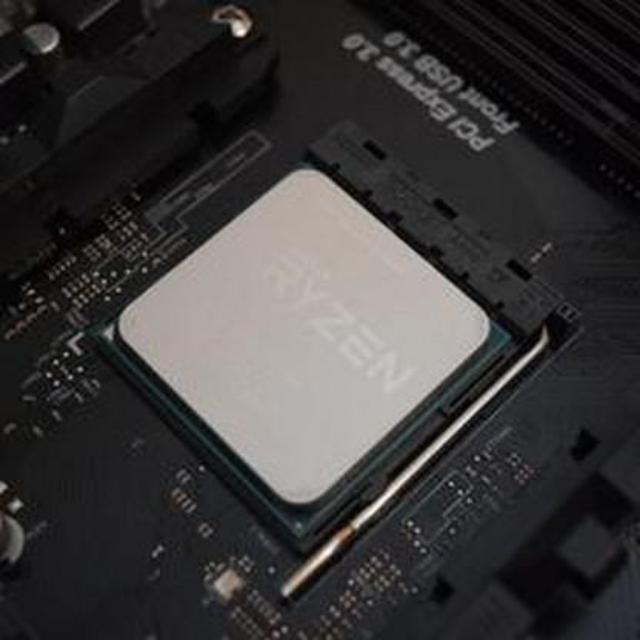CPU: (113, 166, 498, 511)
